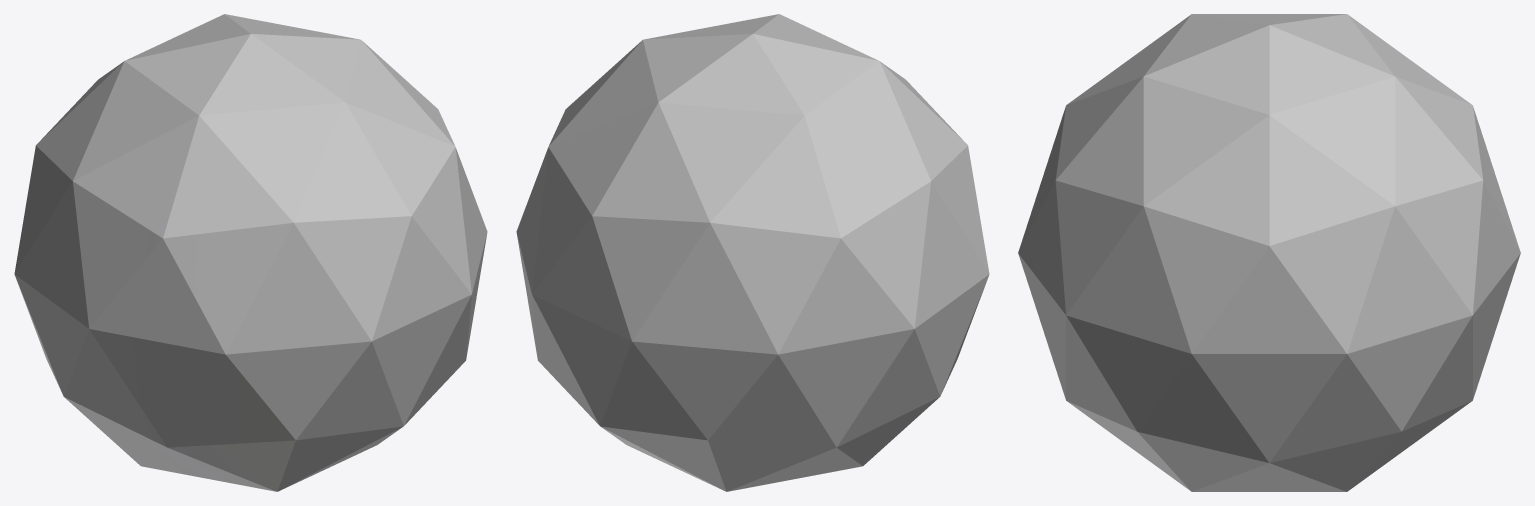
File: SpaceshipPieces.fbx
3 views of the same model, side by side, from view 1: azimuth 30°, elevation 25°; view 2: azimuth 150°, elevation 25°; view 3: azimuth 270°, elevation 25° (orthographic). The views are drawn at different scales.
Visible parts, largest first — view 1: Icosphere; view 2: Icosphere; view 3: Icosphere.
Part boxes in pixels (box(x1,y1,x2,y2)): Icosphere: box(14, 14, 487, 491); Icosphere: box(516, 14, 989, 491); Icosphere: box(1018, 14, 1520, 491).
Bounding box in the file's own units: 27234 × 26661 × 28635.
1 material, 1 textured.
